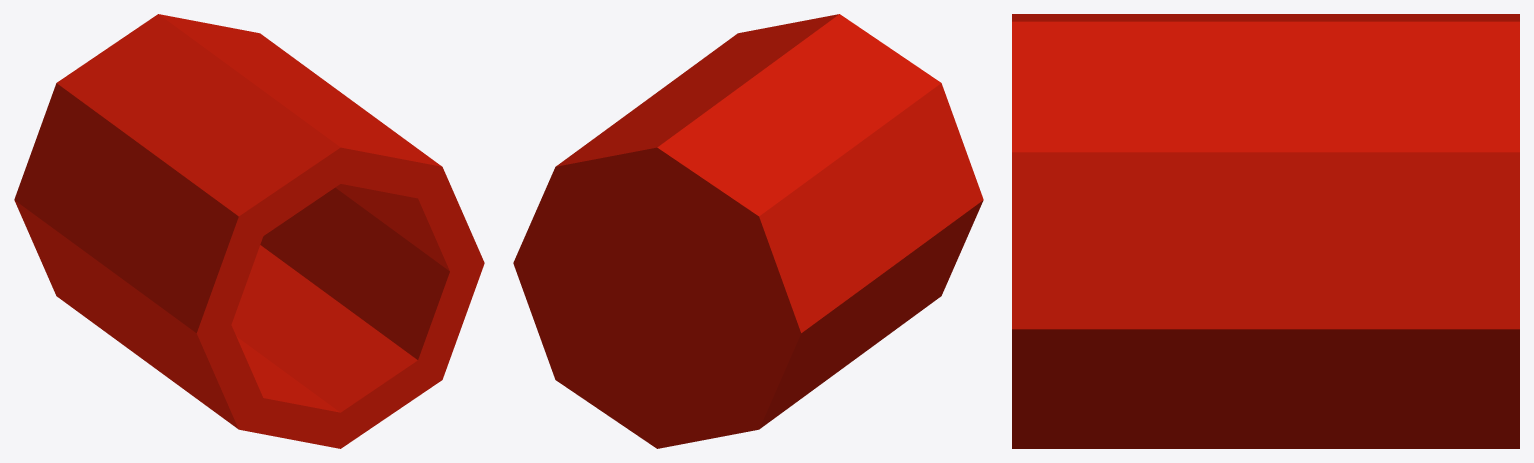
File: spawn-drop_collider.fbx
The picture shows the model from 3 angles, left to right: view 1: azimuth 30°, elevation 25°; view 2: azimuth 150°, elevation 25°; view 3: azimuth 270°, elevation 25°; orthographic projection. The views are drawn at different scales.
Parts seen in each view (by area): view 1: spawn-drop_collider; view 2: spawn-drop_collider; view 3: spawn-drop_collider.
Part boxes in pixels (<box>): spawn-drop_collider: <box>14,14,484,448</box>; spawn-drop_collider: <box>513,14,983,448</box>; spawn-drop_collider: <box>1012,14,1519,448</box>.
Size of the model in its own units: 2.94 by 2.94 by 3.22.
